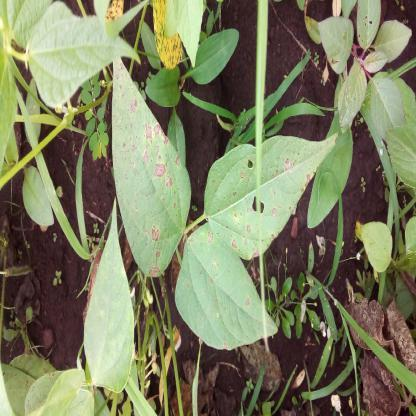Beans_Angular_LeafSpot: (104, 48, 191, 274), (200, 126, 332, 257), (175, 228, 278, 349), (318, 0, 374, 118)
